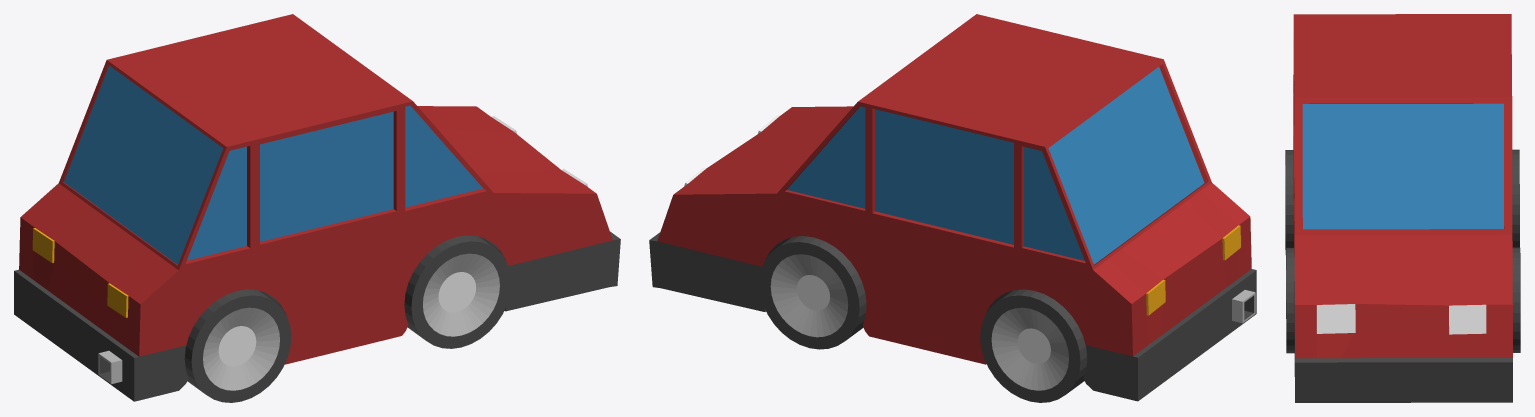
Rendered from car_red.fbx.
The picture shows the model from 3 angles, left to right: view 1: azimuth 30°, elevation 25°; view 2: azimuth 150°, elevation 25°; view 3: azimuth 270°, elevation 25°; orthographic projection. The views are drawn at different scales.
Parts seen in each view (by area): view 1: Cube.001, Cylinder.004, Cylinder.003; view 2: Cube.001, Cylinder.002, Cylinder.005; view 3: Cube.001, Cylinder.004, Cylinder.002, Cylinder.003, Cylinder.005.
Part boxes in pixels (x1,y1,x2,y2): Cube.001: [14, 14, 620, 401]; Cylinder.004: [404, 235, 511, 348]; Cylinder.003: [184, 289, 291, 402]; Cube.001: [649, 14, 1256, 401]; Cylinder.002: [759, 236, 866, 349]; Cylinder.005: [980, 289, 1087, 402]; Cube.001: [1293, 14, 1512, 402]; Cylinder.004: [1286, 248, 1294, 353]; Cylinder.002: [1512, 247, 1520, 352]; Cylinder.003: [1285, 150, 1293, 254]; Cylinder.005: [1512, 149, 1519, 247].
Bounding box in the file's own units: 206 × 100 × 92.21.
